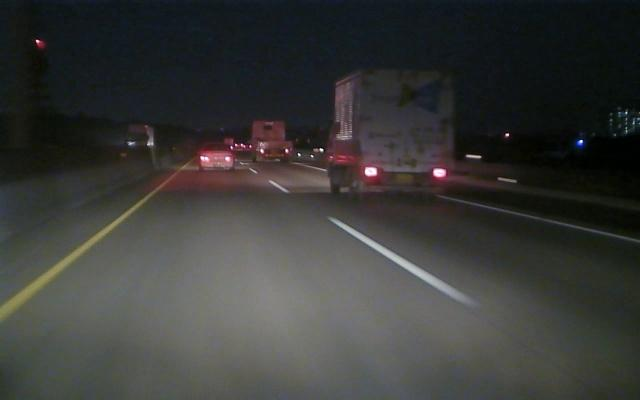lane: (268, 179, 482, 305), (1, 179, 172, 322), (435, 194, 638, 244)
